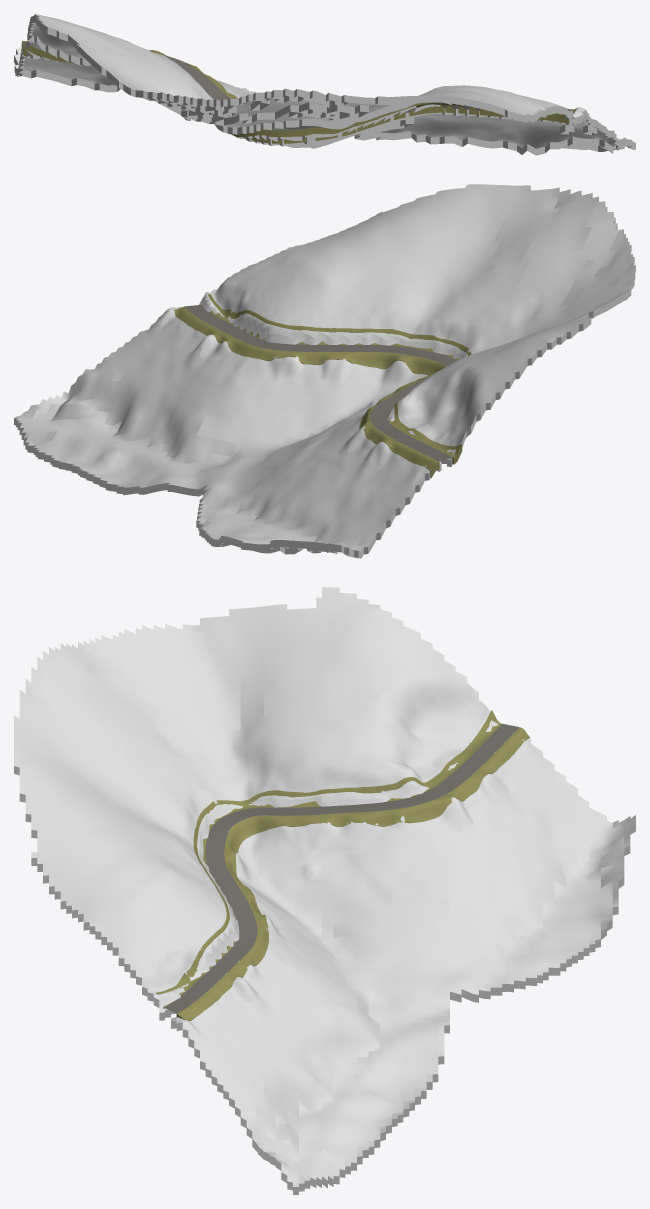
File: conz_69.glb
3 renders of one model, top to bottom at view 1: azimuth 30°, elevation 25°; view 2: azimuth 150°, elevation 25°; view 3: azimuth 270°, elevation 25°, orthographic. The views are drawn at different scales.
Visible parts, largest first — view 1: terrain69, verge69L, road69, verge69R; view 2: terrain69, verge69R, road69, verge69L; view 3: terrain69, road69, verge69R, verge69L.
Boxes of the visible parts, x1,y1,x2,y2 form: terrain69: (14, 14, 635, 155); verge69L: (24, 43, 569, 143); road69: (22, 41, 573, 111); verge69R: (21, 41, 577, 113); terrain69: (14, 184, 635, 558); verge69R: (174, 306, 444, 478); road69: (184, 305, 456, 461); verge69L: (201, 294, 471, 464); terrain69: (14, 587, 635, 1194); road69: (164, 723, 518, 1013); verge69R: (176, 727, 529, 1020); verge69L: (156, 710, 501, 1008).
Size of the model in its own units: 260 by 112 by 214.
